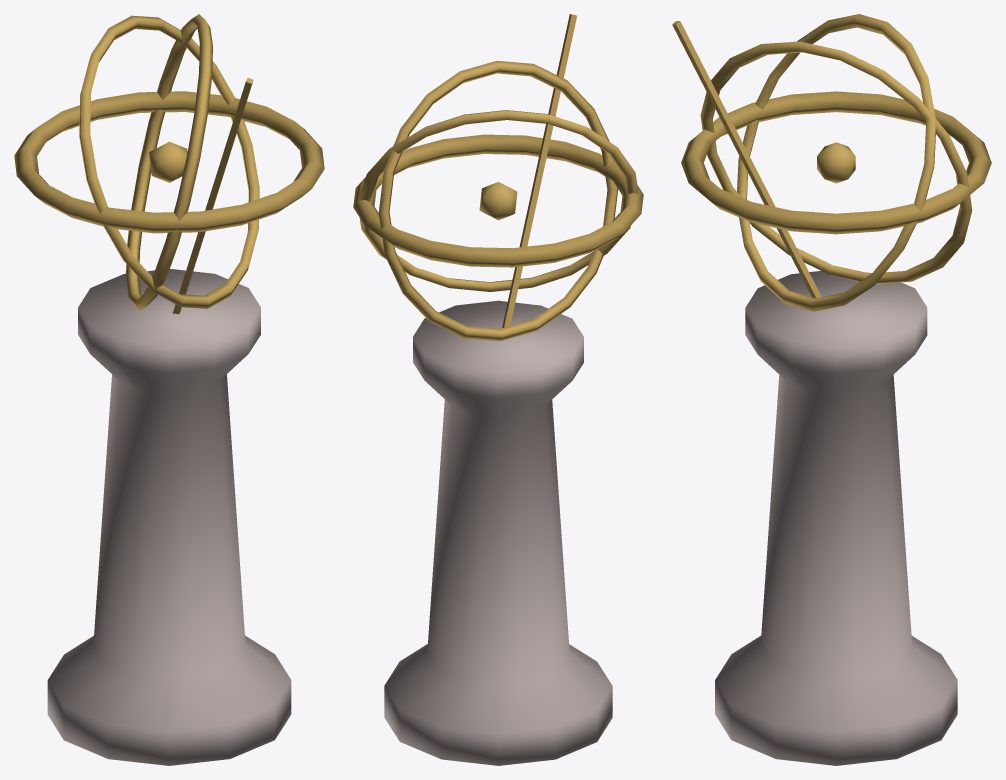
The model's file is armillary.glb.
3 renders of one model, left to right at view 1: azimuth 30°, elevation 25°; view 2: azimuth 150°, elevation 25°; view 3: azimuth 270°, elevation 25°, orthographic. The views are drawn at different scales.
Parts seen in each view (by area): view 1: armillary; view 2: armillary; view 3: armillary.
Part boxes in pixels (x1=…): armillary: x1=14, y1=14, x2=324, y2=765; armillary: x1=353, y1=14, x2=643, y2=765; armillary: x1=672, y1=14, x2=991, y2=765.
Size of what is drawn, in the model's own units: 0.82 by 2.01 by 0.84.
